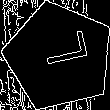L_W: (30, 36, 88, 77)
